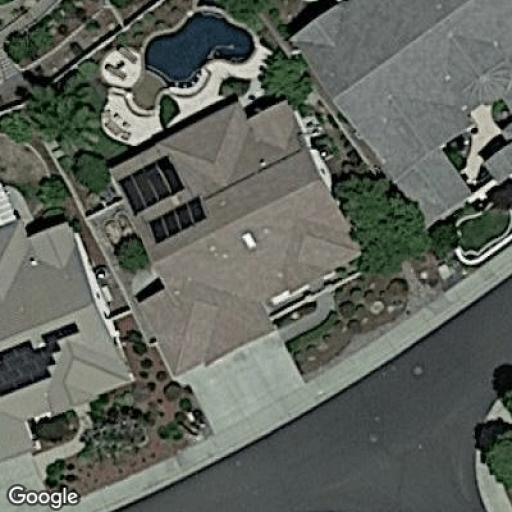solar-panel: (0, 322, 80, 400), (117, 153, 188, 218), (147, 194, 210, 244)
